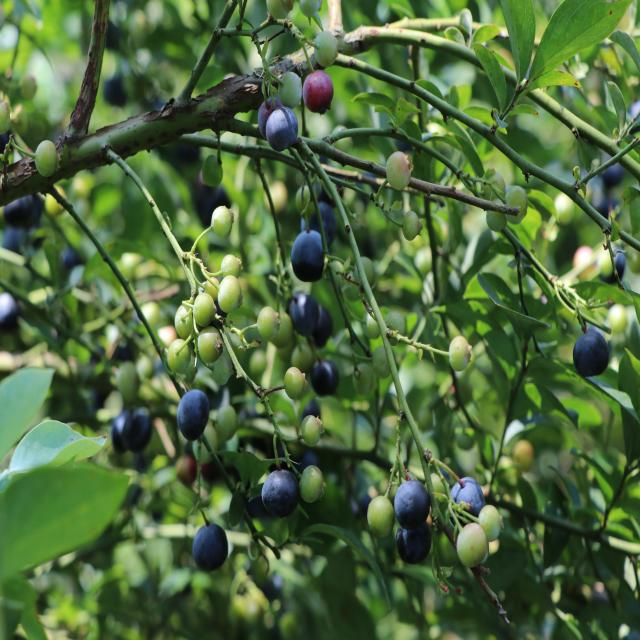blueberry: (290, 229, 328, 285), (261, 468, 299, 519), (191, 521, 228, 572), (175, 388, 211, 440), (572, 329, 610, 378), (302, 200, 338, 250), (394, 478, 430, 528), (394, 522, 433, 565), (449, 473, 484, 520), (264, 106, 298, 150), (289, 292, 322, 336), (124, 406, 152, 453), (312, 358, 340, 398), (600, 242, 626, 283), (257, 99, 283, 138)
blueberry-halfripe: (301, 68, 338, 116)
blueberry-unripe: (456, 521, 490, 568), (32, 137, 61, 181), (310, 29, 341, 69), (366, 494, 396, 534), (386, 149, 411, 192), (277, 69, 303, 109), (216, 275, 244, 312), (352, 254, 379, 292), (197, 325, 223, 364), (298, 464, 323, 504), (164, 339, 192, 373), (504, 184, 526, 224), (174, 304, 196, 341), (384, 310, 406, 346), (483, 168, 505, 204), (299, 414, 322, 448), (192, 294, 217, 325), (210, 205, 232, 240), (449, 337, 471, 372), (485, 197, 505, 235), (479, 508, 506, 536), (284, 366, 304, 402), (401, 208, 422, 242), (360, 308, 382, 340), (258, 306, 278, 341), (298, 0, 325, 25), (353, 363, 374, 395), (265, 0, 295, 21), (372, 347, 392, 378), (220, 253, 242, 281), (203, 278, 220, 297)
